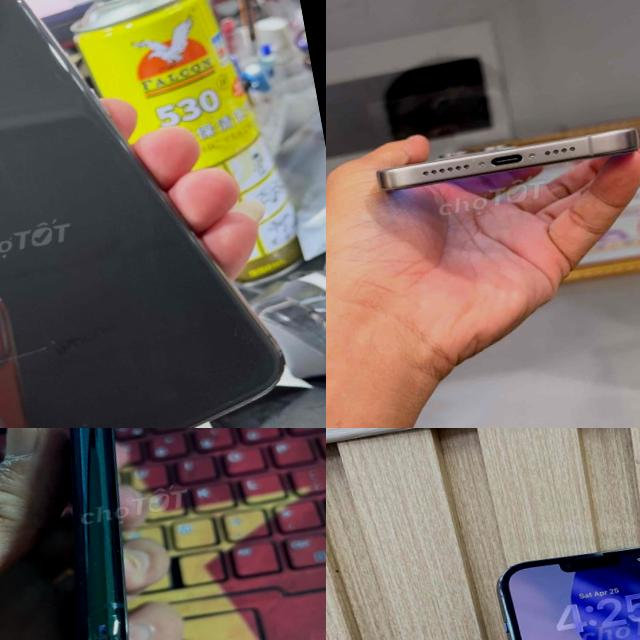gen_11: (0, 428, 200, 640)
gen_12_13: (490, 524, 640, 640)
gen_15: (357, 106, 640, 219)
gen_x_xs: (0, 0, 282, 428)
